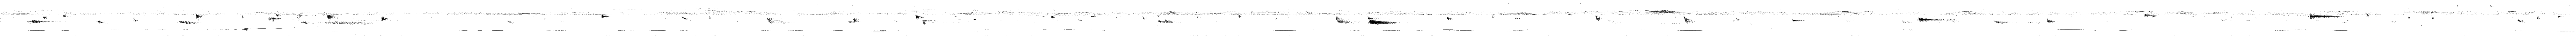meteor: (1367, 16, 1396, 25), (2310, 13, 2341, 20), (1919, 16, 1943, 23), (1336, 16, 1352, 23), (767, 18, 789, 23), (31, 18, 51, 23), (179, 20, 199, 25), (1993, 20, 2009, 25), (1684, 16, 1694, 23), (915, 15, 925, 20), (327, 15, 335, 20), (2047, 18, 2055, 23), (1792, 18, 1804, 21), (1595, 15, 1600, 21), (2517, 18, 2523, 23), (381, 16, 388, 21), (601, 15, 609, 18), (195, 15, 202, 18)
